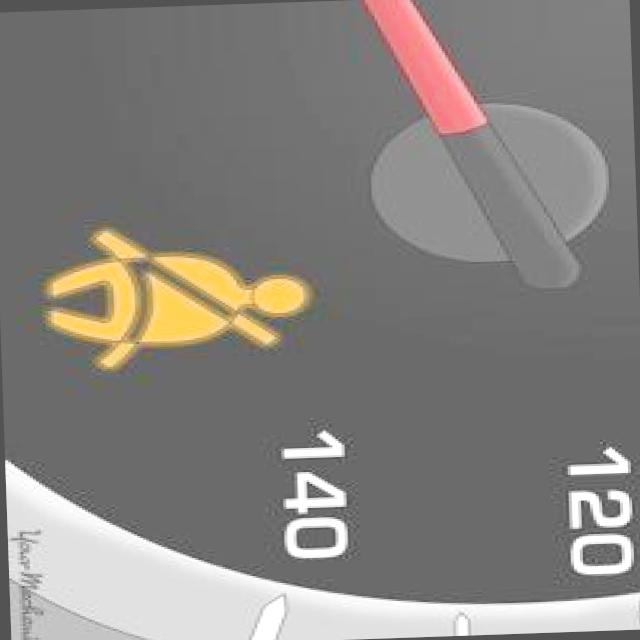kontrolka: (31, 189, 347, 394)
